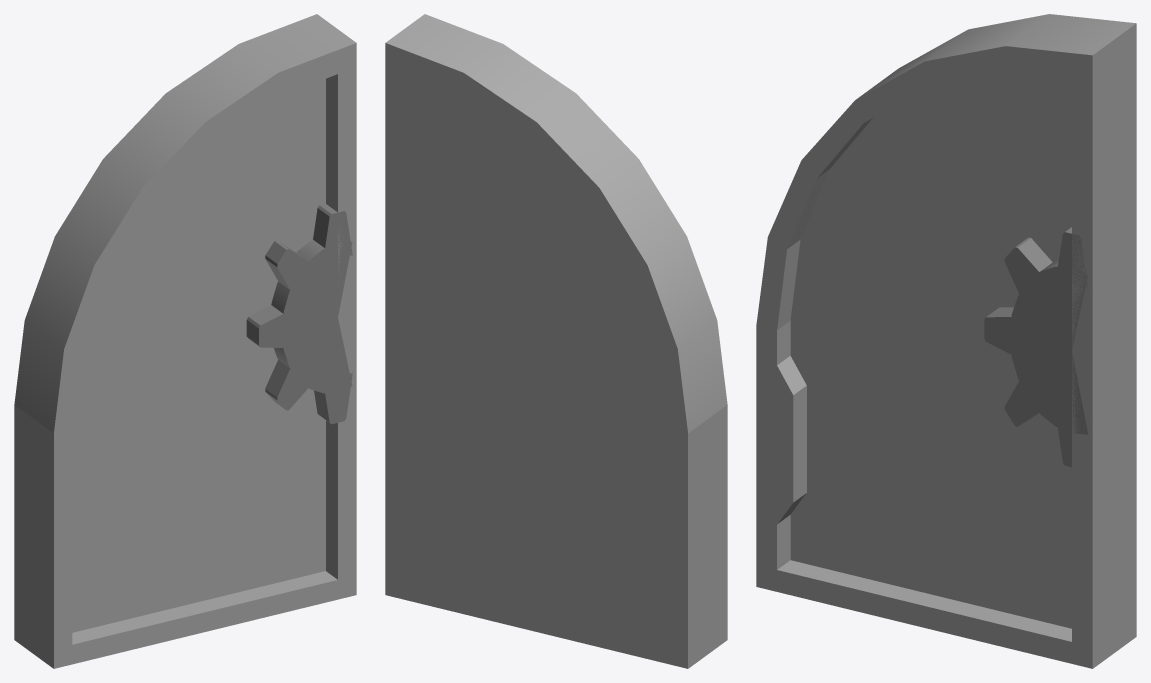
File: door01A.fbx
3 views of the same model, side by side, from view 1: azimuth 30°, elevation 25°; view 2: azimuth 150°, elevation 25°; view 3: azimuth 330°, elevation 25° (orthographic). The views are drawn at different scales.
Visible parts, largest first — view 1: polySurface16; view 2: polySurface16; view 3: polySurface16.
Boxes of the visible parts, left/top/right/bottom form: polySurface16: left=14, top=14, right=356, bottom=668; polySurface16: left=385, top=14, right=727, bottom=668; polySurface16: left=756, top=14, right=1136, bottom=668.
Size of the model in its own units: 1 by 1.74 by 0.2258.
